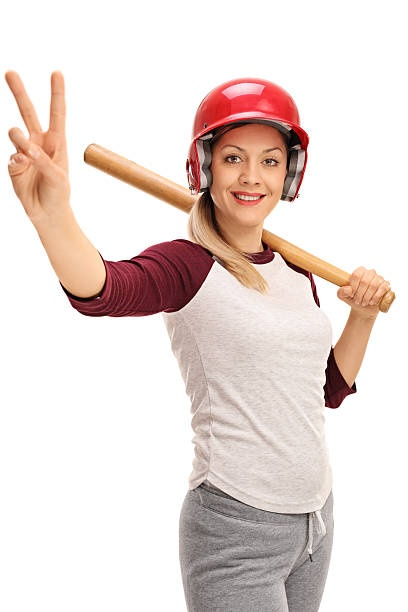bita: (261, 230, 400, 307), (82, 140, 209, 218)
